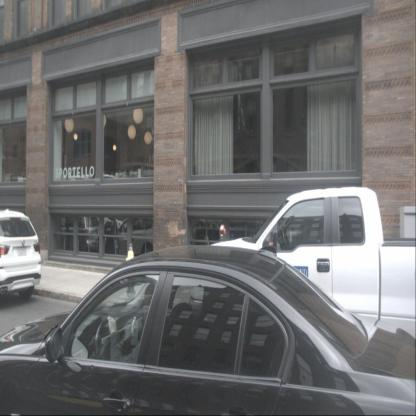vehicle-car: (0, 242, 416, 416), (0, 209, 42, 304), (101, 214, 167, 260), (45, 212, 105, 254)
vehicle-truck: (201, 185, 415, 362)
